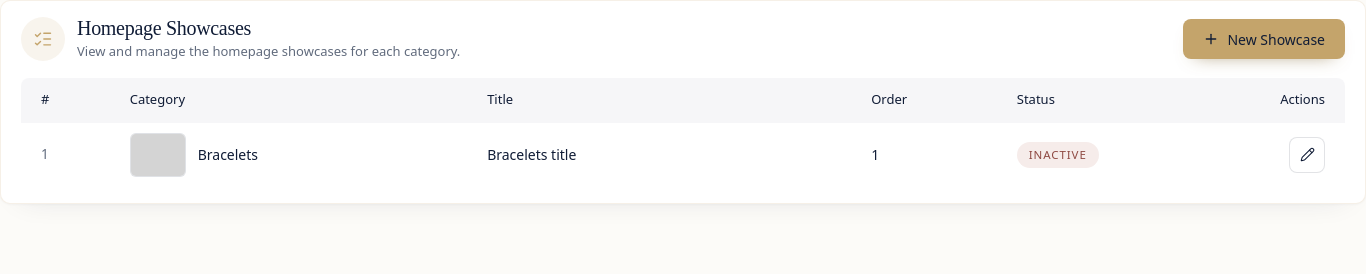
it: Status pill — ACTIVE ⇄ INACTIVE toggle › restores the previous status when the action throws
The width and height of the screenshot is (1366, 274).
What coordinates should you click on to do the following:
click the button with test id "showcase-status-toggle"
I would click on:
 (1058, 155)
Its box is [1017,142,1099,168].
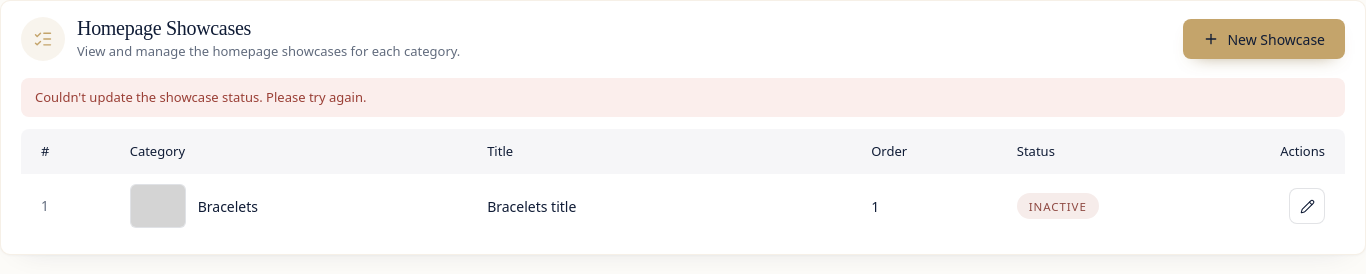
Check: the button with test id "showcase-status-toggle" reads "Inactive", box [1017,193,1099,219]
Check: the message "Couldn't update the showcase status. Please try again." is shown, box [21,78,1345,117]
